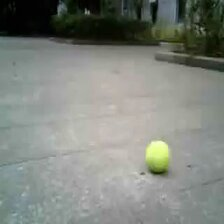tennis: (144, 140, 169, 171)
